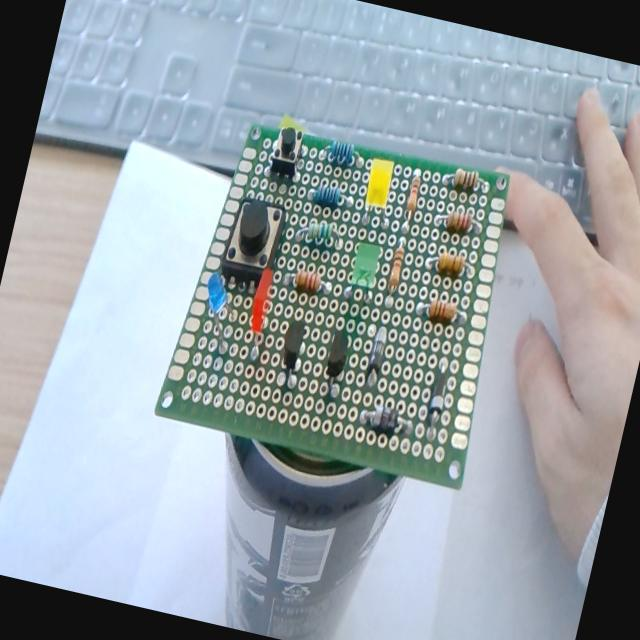diode: (422, 358, 454, 438), (356, 399, 414, 442), (362, 325, 390, 386)
led: (192, 272, 241, 354), (240, 266, 278, 360), (356, 157, 397, 231), (341, 237, 385, 305)
resistor: (280, 266, 331, 302), (381, 234, 408, 300), (416, 292, 468, 326), (297, 214, 342, 250), (442, 165, 491, 197), (305, 182, 352, 214), (323, 138, 367, 170), (433, 207, 477, 238), (435, 248, 466, 276), (404, 173, 422, 216)
switch: (215, 192, 287, 295), (266, 122, 306, 180)
transistor: (274, 318, 310, 393), (318, 326, 353, 400)
